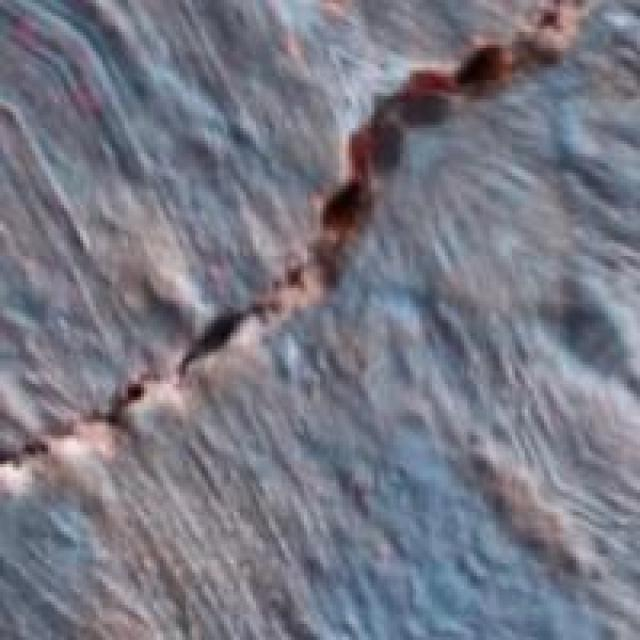crack: (9, 29, 524, 518)
